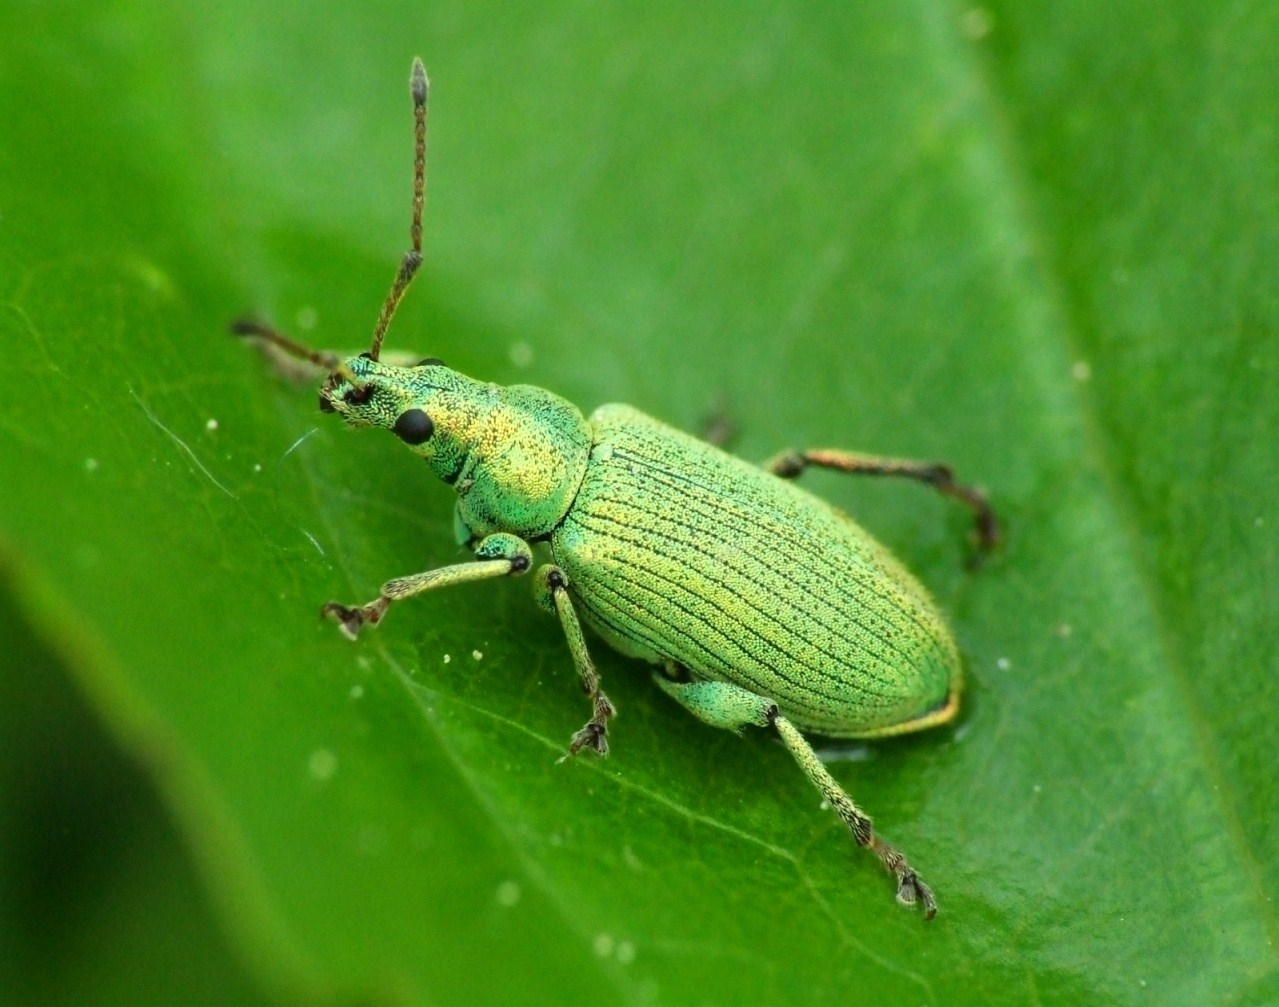dolgonosik: (222, 64, 1045, 932)
